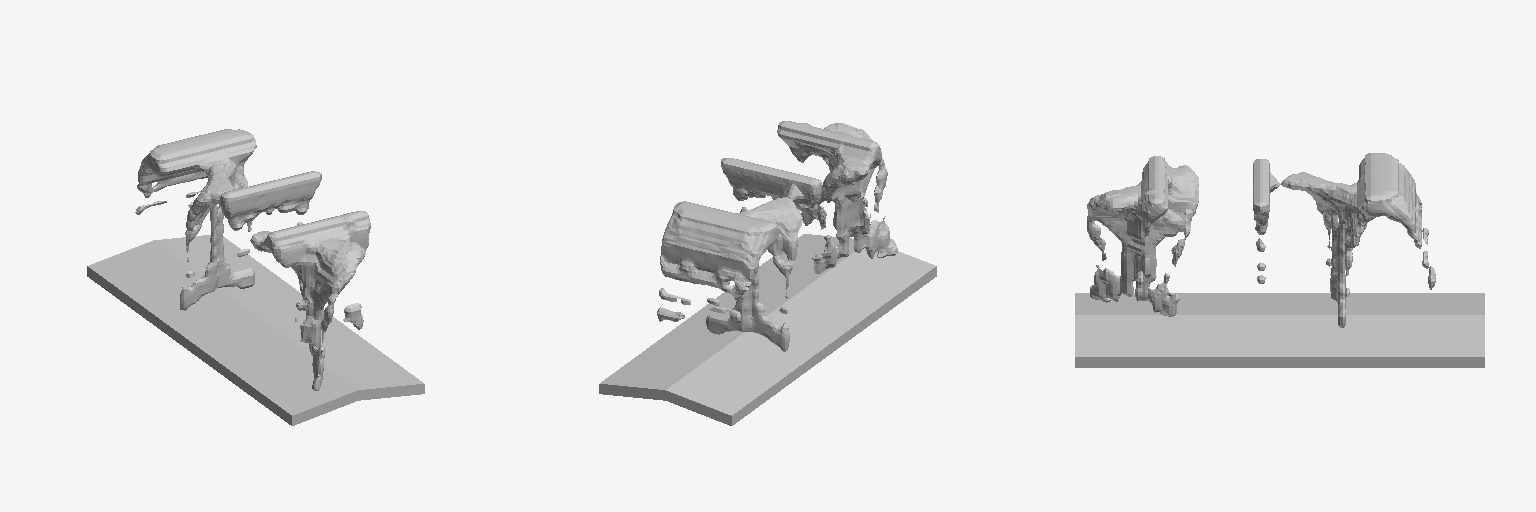
File: Watersim_000017.obj
3 views of the same model, side by side, from view 1: azimuth 30°, elevation 25°; view 2: azimuth 150°, elevation 25°; view 3: azimuth 270°, elevation 25° (orthographic).
Visible parts, largest first — view 1: Straße_Cube.007, Domain_Cube.006; view 2: Straße_Cube.007, Domain_Cube.006; view 3: Straße_Cube.007, Domain_Cube.006.
Part boxes in pixels (x1,y1,x2,y2): Straße_Cube.007: (87, 235, 424, 425); Domain_Cube.006: (135, 129, 370, 390); Straße_Cube.007: (599, 234, 936, 425); Domain_Cube.006: (657, 121, 897, 351); Straße_Cube.007: (1075, 293, 1484, 367); Domain_Cube.006: (1087, 153, 1435, 327).
Bounding box in the file's own units: 2.26 × 2.59 × 6.06.